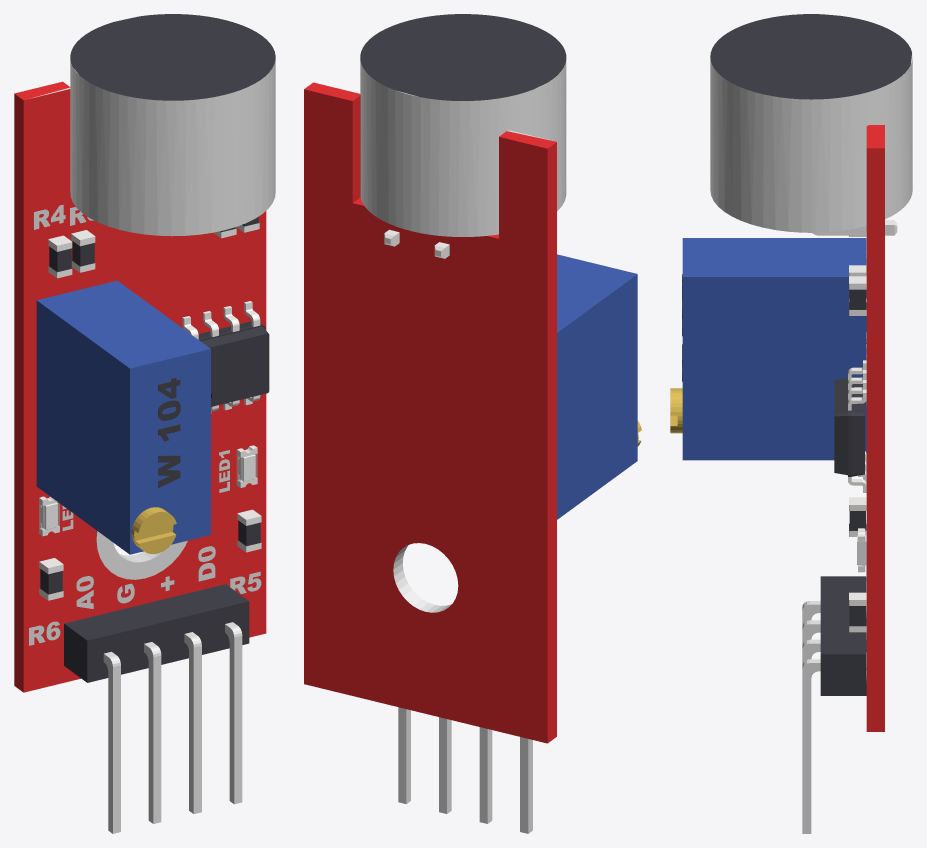
The model's file is sound_sensor.glb.
3 renders of one model, left to right at view 1: azimuth 30°, elevation 25°; view 2: azimuth 150°, elevation 25°; view 3: azimuth 270°, elevation 25°, orthographic.
Visible parts, largest first — view 1: placa_vermelho_002-material, aluminio_021-material, Azul_Servo_002-material, chip_preto_001-material, PRERTO_FOSCO-material, metal_aluminio-material, _BRANCO_004-material, dourado_007-material, Plastico_branco-material, led_metal-material; view 2: placa_vermelho_002-material, aluminio_021-material, Azul_Servo_002-material, PRERTO_FOSCO-material; view 3: Azul_Servo_002-material, aluminio_021-material, PRERTO_FOSCO-material, placa_vermelho_002-material, chip_preto_001-material, metal_aluminio-material, dourado_007-material.
Boxes of the visible parts, left/top/right/bottom form: placa_vermelho_002-material: left=14, top=81, right=266, bottom=692; aluminio_021-material: left=29, top=17, right=275, bottom=833; Azul_Servo_002-material: left=36, top=280, right=210, bottom=554; chip_preto_001-material: left=39, top=217, right=269, bottom=682; PRERTO_FOSCO-material: left=70, top=14, right=275, bottom=100; metal_aluminio-material: left=39, top=223, right=261, bottom=600; _BRANCO_004-material: left=29, top=205, right=261, bottom=645; dourado_007-material: left=131, top=507, right=176, bottom=554; Plastico_branco-material: left=41, top=454, right=255, bottom=529; led_metal-material: left=39, top=445, right=257, bottom=533; placa_vermelho_002-material: left=304, top=82, right=556, bottom=743; aluminio_021-material: left=360, top=60, right=566, bottom=833; Azul_Servo_002-material: left=557, top=254, right=637, bottom=519; PRERTO_FOSCO-material: left=360, top=14, right=566, bottom=100; Azul_Servo_002-material: left=682, top=238, right=866, bottom=460; aluminio_021-material: left=710, top=14, right=912, bottom=833; PRERTO_FOSCO-material: left=710, top=14, right=911, bottom=99; placa_vermelho_002-material: left=866, top=125, right=884, bottom=731; chip_preto_001-material: left=682, top=274, right=866, bottom=695; metal_aluminio-material: left=812, top=220, right=897, bottom=632; dourado_007-material: left=670, top=388, right=682, bottom=433.
Size of the model in its own units: 0.015 by 0.0447 by 0.0132.
